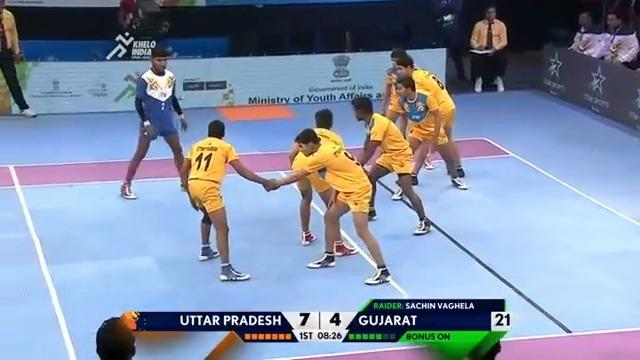Player: (265, 127, 392, 285), (179, 118, 276, 281), (349, 94, 431, 235), (389, 51, 468, 191), (288, 107, 358, 257), (0, 3, 37, 117)
Raider: (119, 46, 188, 199)
referee: (468, 5, 508, 92), (432, 0, 470, 83), (117, 0, 169, 38), (95, 316, 136, 359)
